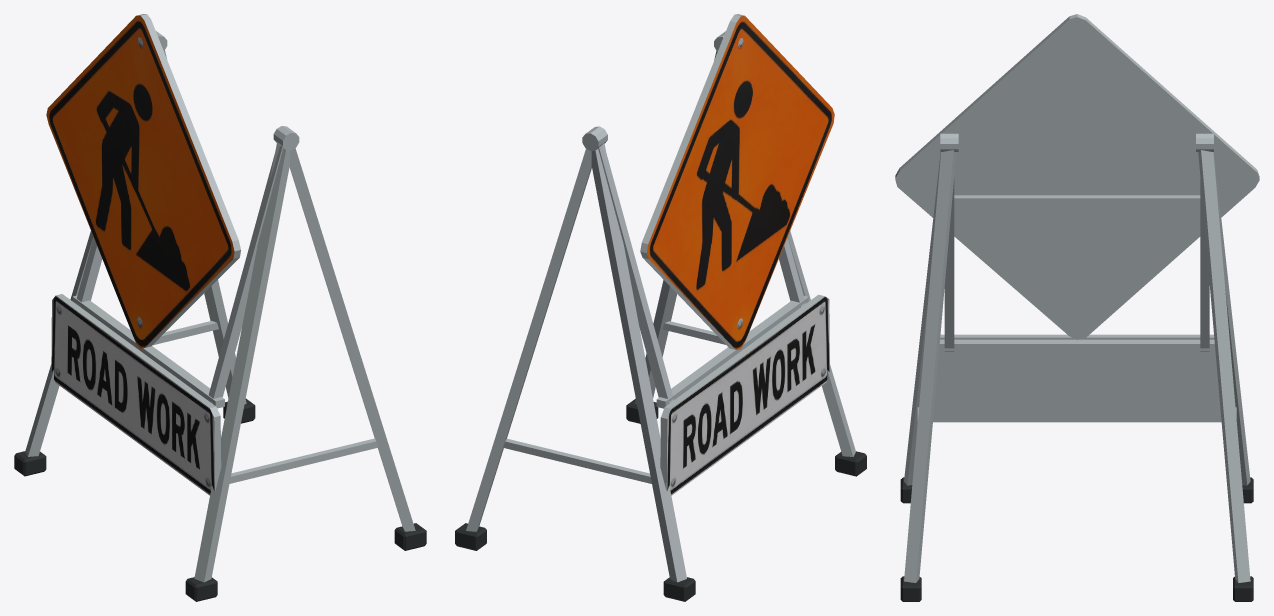
Rendered from cz_sign.glb.
3 renders of one model, left to right at view 1: azimuth 30°, elevation 25°; view 2: azimuth 150°, elevation 25°; view 3: azimuth 270°, elevation 25°, orthographic. The views are drawn at different scales.
Visible parts, largest first — view 1: cz_sign; view 2: cz_sign; view 3: cz_sign.
Part boxes in pixels (left/top/right/bottom): cz_sign: left=14, top=14, right=426, bottom=601; cz_sign: left=455, top=14, right=866, bottom=601; cz_sign: left=895, top=14, right=1259, bottom=601.
Size of the model in its own units: 0.712 by 1.5 by 0.999.
Materials: 3 (1 with a texture image).
